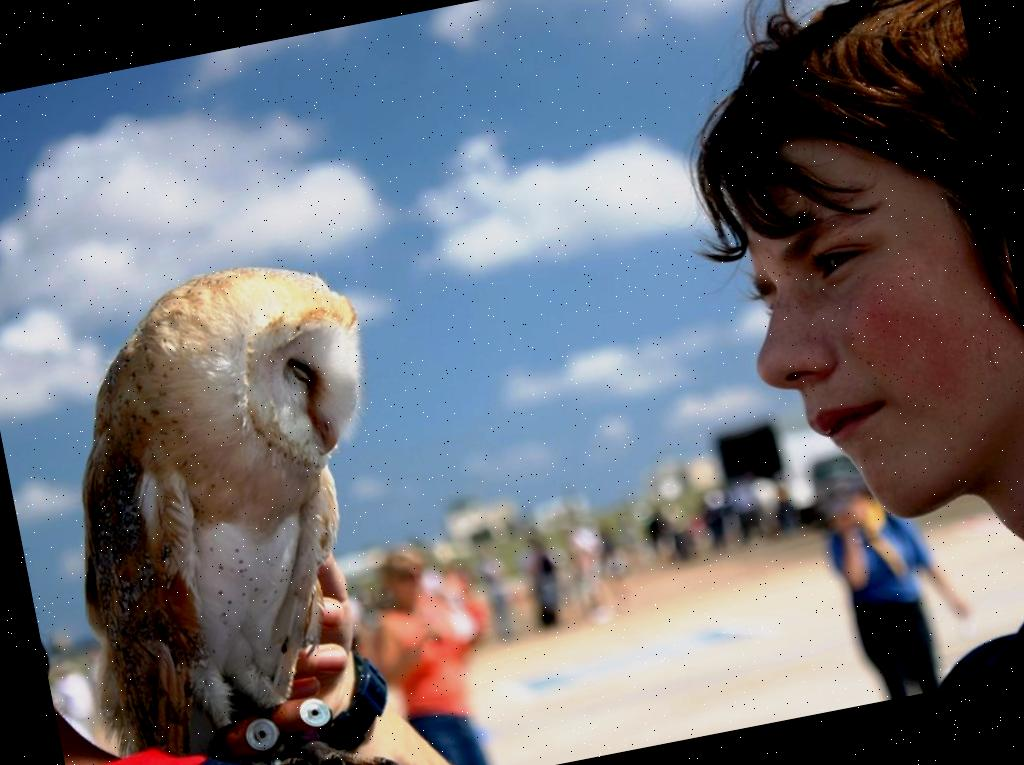Owl: (14, 238, 435, 762)
